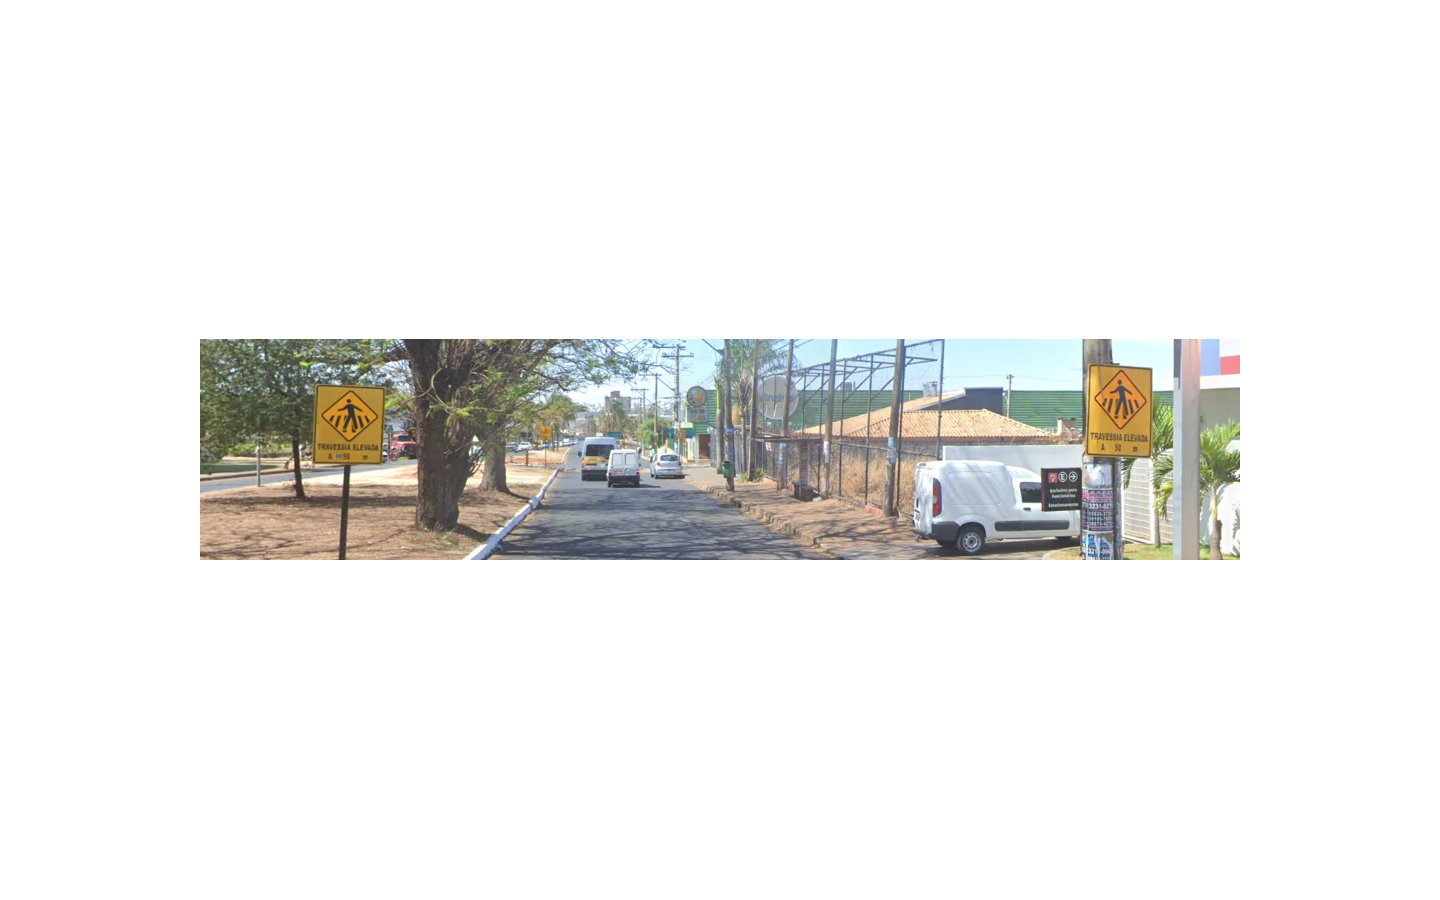t50m: (1085, 363, 1153, 460), (313, 383, 385, 465)
